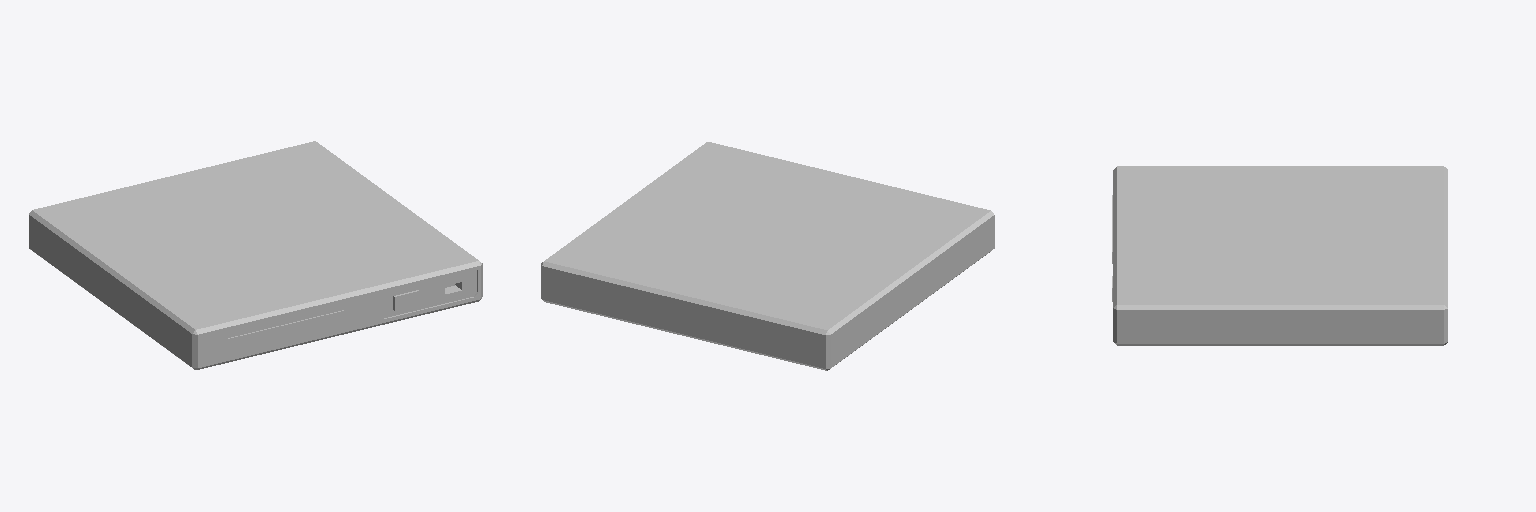
File: Low_Poly_DVD_Player.obj
3 renders of one model, left to right at view 1: azimuth 30°, elevation 25°; view 2: azimuth 150°, elevation 25°; view 3: azimuth 270°, elevation 25°, orthographic.
Visible parts, largest first — view 1: Dvd_Base Low_Poly_DVD_Player, Low_Poly_DVD_Player DVD_Slot; view 2: Dvd_Base Low_Poly_DVD_Player; view 3: Dvd_Base Low_Poly_DVD_Player.
Part boxes in pixels (x1,y1,x2,y2): Dvd_Base Low_Poly_DVD_Player: (29, 141, 482, 369); Low_Poly_DVD_Player DVD_Slot: (228, 310, 343, 350); Dvd_Base Low_Poly_DVD_Player: (541, 142, 994, 370); Dvd_Base Low_Poly_DVD_Player: (1112, 166, 1447, 345).
Bounding box in the file's own units: 2.09 × 0.2803 × 2.1.